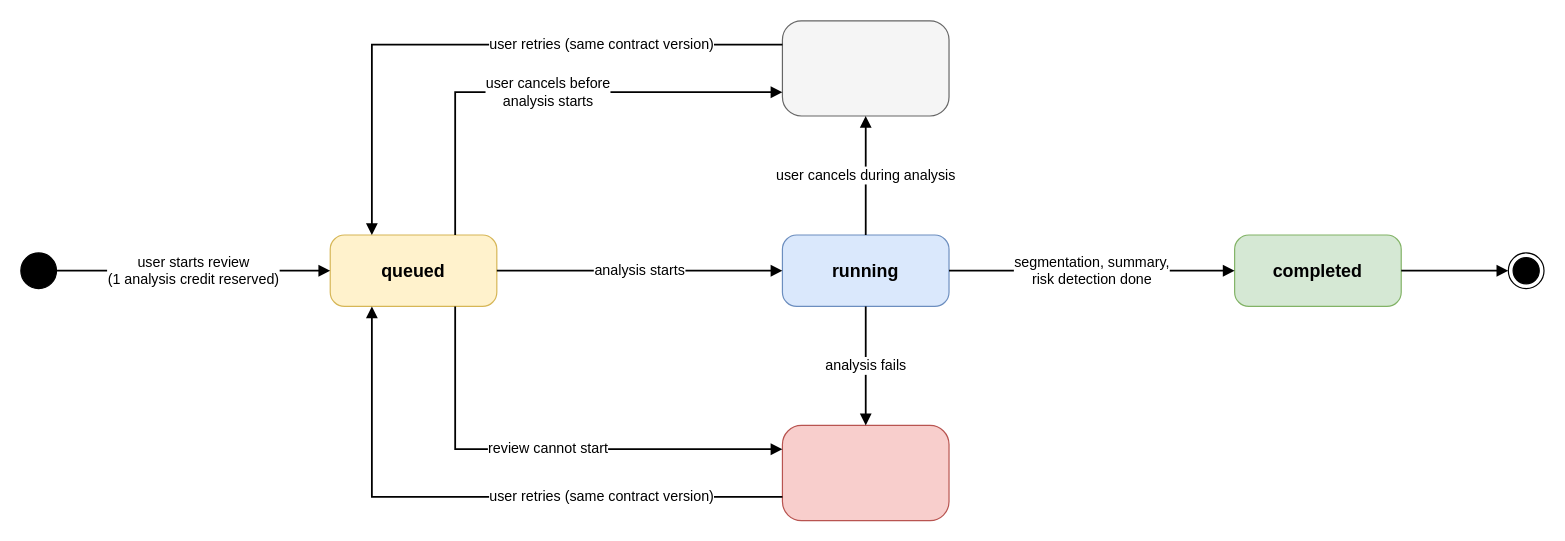
Some shapes in this 1565 by 541 pixel diagram are drawn without their labels. The shapes that lost their labels are listed below. From the top down, each one's centre as x and y in pixels, then its label:
At [865,68]: "cancelled".
At [865,472]: "failed".
